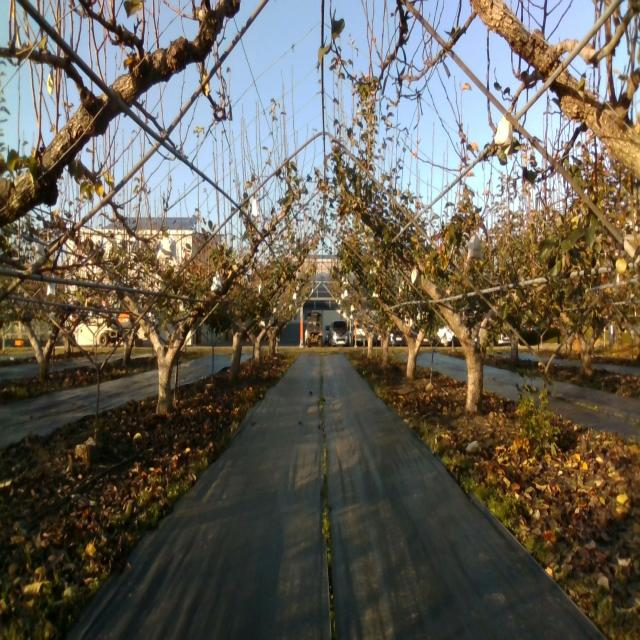pearbags: (493, 116, 513, 160), (156, 232, 176, 262), (468, 234, 483, 262), (210, 270, 223, 292)
